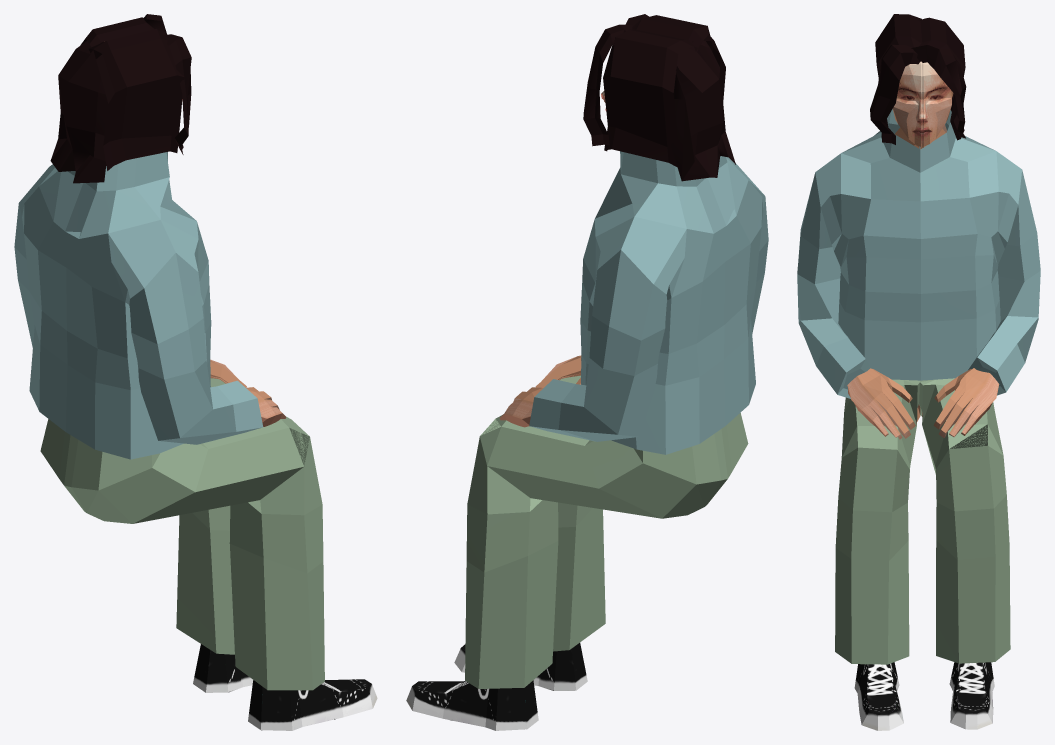
The model's file is jon2.gltf.
3 views of the same model, side by side, from view 1: azimuth 30°, elevation 25°; view 2: azimuth 150°, elevation 25°; view 3: azimuth 270°, elevation 25° (orthographic). The views are drawn at different scales.
Parts seen in each view (by area): view 1: Cube.007, Cube.006, Plane.008, Cube.005, Plane.006, Plane.007, Cube.008, Plane.010; view 2: Cube.007, Cube.006, Plane.010, Cube.005, Plane.006, Plane.009, Plane.008, Cube.008; view 3: Cube.007, Cube.006, Cube.008, Cube.005, Plane.007, Plane.009, Plane.008, Plane.010.
Part boxes in pixels (<box>): Cube.007: <box>14,152,263,459</box>; Cube.006: <box>40,378,324,690</box>; Plane.008: <box>88,28,184,170</box>; Cube.005: <box>193,644,377,730</box>; Plane.006: <box>50,41,108,183</box>; Plane.007: <box>164,34,191,154</box>; Cube.008: <box>182,99,286,426</box>; Plane.010: <box>80,17,154,47</box>; Cube.007: <box>529,151,768,454</box>; Cube.006: <box>465,375,748,688</box>; Plane.010: <box>603,29,694,166</box>; Cube.005: <box>406,643,587,730</box>; Plane.006: <box>671,41,735,181</box>; Plane.009: <box>583,24,633,146</box>; Plane.008: <box>632,15,725,101</box>; Cube.008: <box>499,91,606,427</box>; Cube.007: <box>797,109,1040,398</box>; Cube.006: <box>835,378,1010,664</box>; Cube.008: <box>847,61,999,439</box>; Cube.005: <box>854,662,994,730</box>; Plane.007: <box>870,44,919,144</box>; Plane.009: <box>911,40,966,138</box>; Plane.008: <box>875,14,922,126</box>; Plane.010: <box>919,17,965,140</box>.
Size of the model in its own units: 0.9615 by 2.23 by 0.8051.
Materials: 9 (2 with a texture image).
